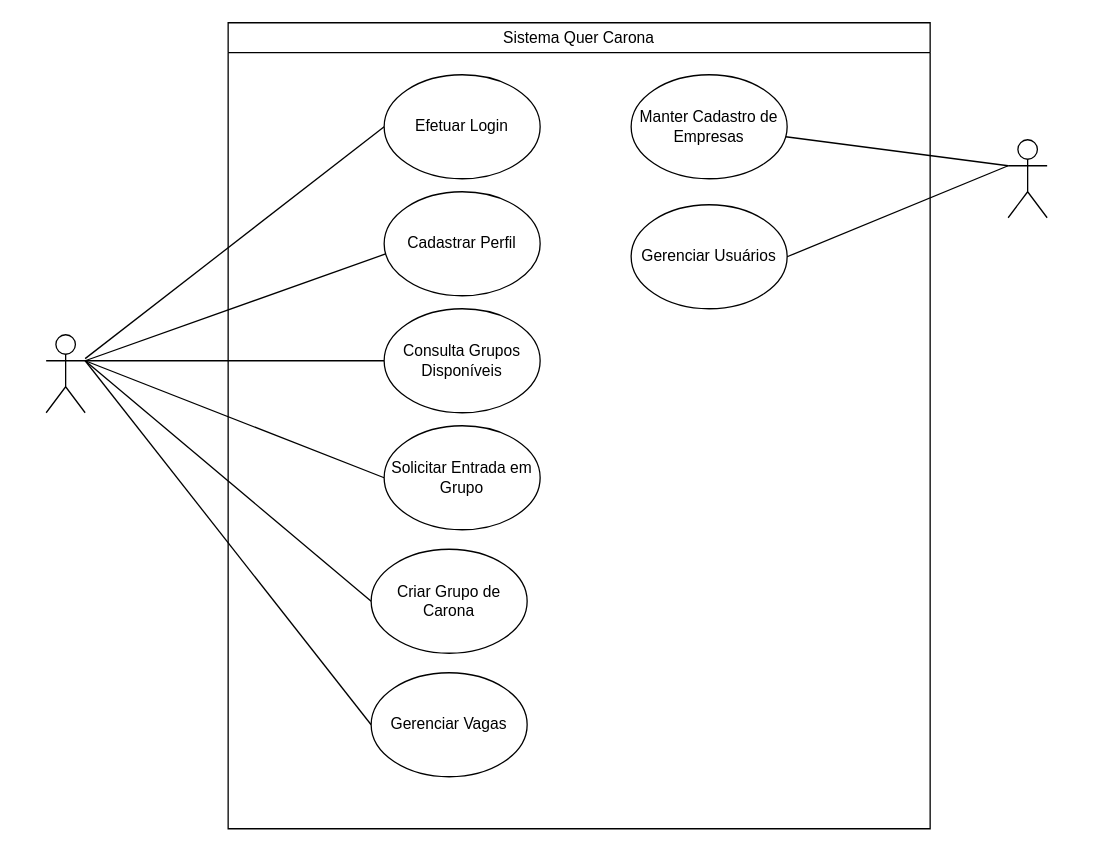
This 1097x851 diagram has some shape labels left out. Each missing label, with the box of its shape:
Administrador: (1007, 138, 1047, 218)
Colaborador: (45, 333, 85, 413)
